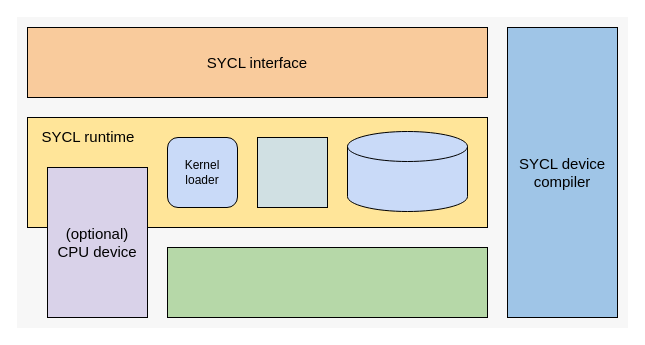
This 645x345 diagram has some shape labels left out. The shapes that lost their labels are listed below. From the top down, each one's centre as x and y in pixels, then its label:
At (292,172): "Runtime scheduler".
At (407,171): "Data dependency tracker".
At (327,282): "Backend interface(s) (e.g., OpenCL, Level Zero, OpenMP, CUDA, HIP)".
